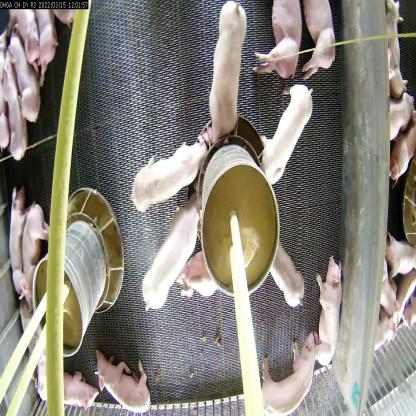Pig: (128, 205, 208, 317), (257, 79, 325, 196), (207, 0, 250, 148), (128, 137, 206, 212), (257, 331, 322, 415), (29, 345, 99, 415), (310, 252, 346, 383), (248, 0, 304, 82), (260, 236, 310, 327), (91, 346, 153, 416), (3, 30, 46, 129), (0, 48, 31, 171), (299, 0, 340, 89), (176, 250, 226, 313), (19, 205, 48, 312), (4, 182, 29, 304), (6, 6, 43, 78), (30, 3, 61, 83), (386, 5, 409, 100), (388, 118, 416, 192), (369, 257, 401, 320), (368, 308, 397, 360), (386, 228, 416, 278), (392, 270, 416, 328), (387, 93, 413, 142)
